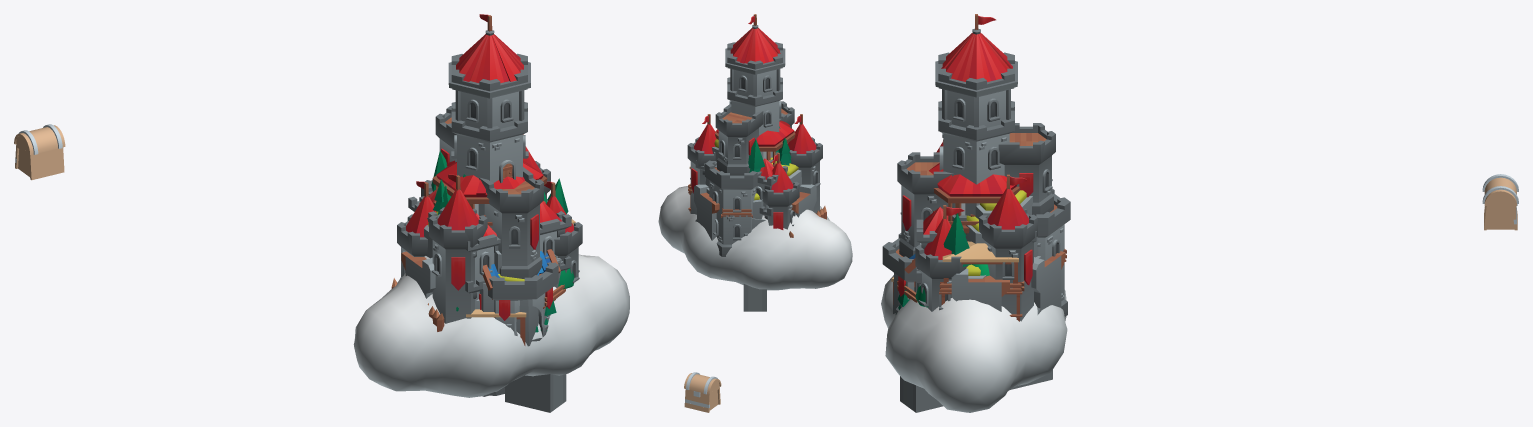
File: is-world.glb
3 renders of one model, left to right at view 1: azimuth 30°, elevation 25°; view 2: azimuth 150°, elevation 25°; view 3: azimuth 270°, elevation 25°, orthographic. The views are drawn at different scales.
Parts seen in each view (by area): view 1: building_castle_red, cloud_big, building_barracks_red, building_bridge_A, building_tower_B_top_red, mountain_C_grass_trees, chest, lid, wall_corner_A_outside, mountain_A_grass_trees, building_scaffolding; view 2: building_castle_red, cloud_big, wall_corner_A_outside, building_tower_B_top_red, building_barracks_red, mountain_C_grass_trees, chest, building_bridge_A, lid, mountain_A_grass_trees, building_scaffolding, mountain_B_grass; view 3: building_castle_red, cloud_big, building_tower_B_top_red, building_scaffolding, wall_corner_A_outside, wall_straight, mountain_B_grass, building_bridge_A, lid, wall_straight_gate, chest, building_barracks_red (+1 smaller).
Boxes of the visible parts, x1,y1,x2,y2 form: building_castle_red: (397,14,582,341); cloud_big: (353,254,629,397); building_barracks_red: (408,190,571,309); building_bridge_A: (483,374,566,412); building_tower_B_top_red: (432,160,547,229); mountain_C_grass_trees: (424,174,547,346); chest: (15,144,64,180); lid: (14,124,65,155); wall_corner_A_outside: (401,251,432,298); mountain_A_grass_trees: (431,150,568,287); building_scaffolding: (466,219,575,345); building_castle_red: (687,14,822,256); cloud_big: (658,186,852,290); wall_corner_A_outside: (694,184,816,240); building_tower_B_top_red: (715,120,795,166); building_barracks_red: (695,143,787,219); mountain_C_grass_trees: (706,126,801,219); chest: (684,387,720,412); building_bridge_A: (743,284,766,311); lid: (684,372,721,394); mountain_A_grass_trees: (748,139,791,172); building_scaffolding: (688,166,752,217); mountain_B_grass: (705,139,765,229); building_castle_red: (882,14,1070,321); cloud_big: (881,275,1067,412); building_tower_B_top_red: (929,163,1020,234); building_scaffolding: (891,241,1066,321); wall_corner_A_outside: (1031,251,1065,314); wall_straight: (951,268,1009,311); mountain_B_grass: (965,190,1038,278); building_bridge_A: (900,370,1052,412); lid: (1482,174,1518,205); wall_straight_gate: (951,274,1009,311); chest: (1484,204,1517,230); building_barracks_red: (916,207,1036,283).
Bounding box in the file's own units: 4.68 × 4.98 × 7.66.
7 materials, 5 textured.
